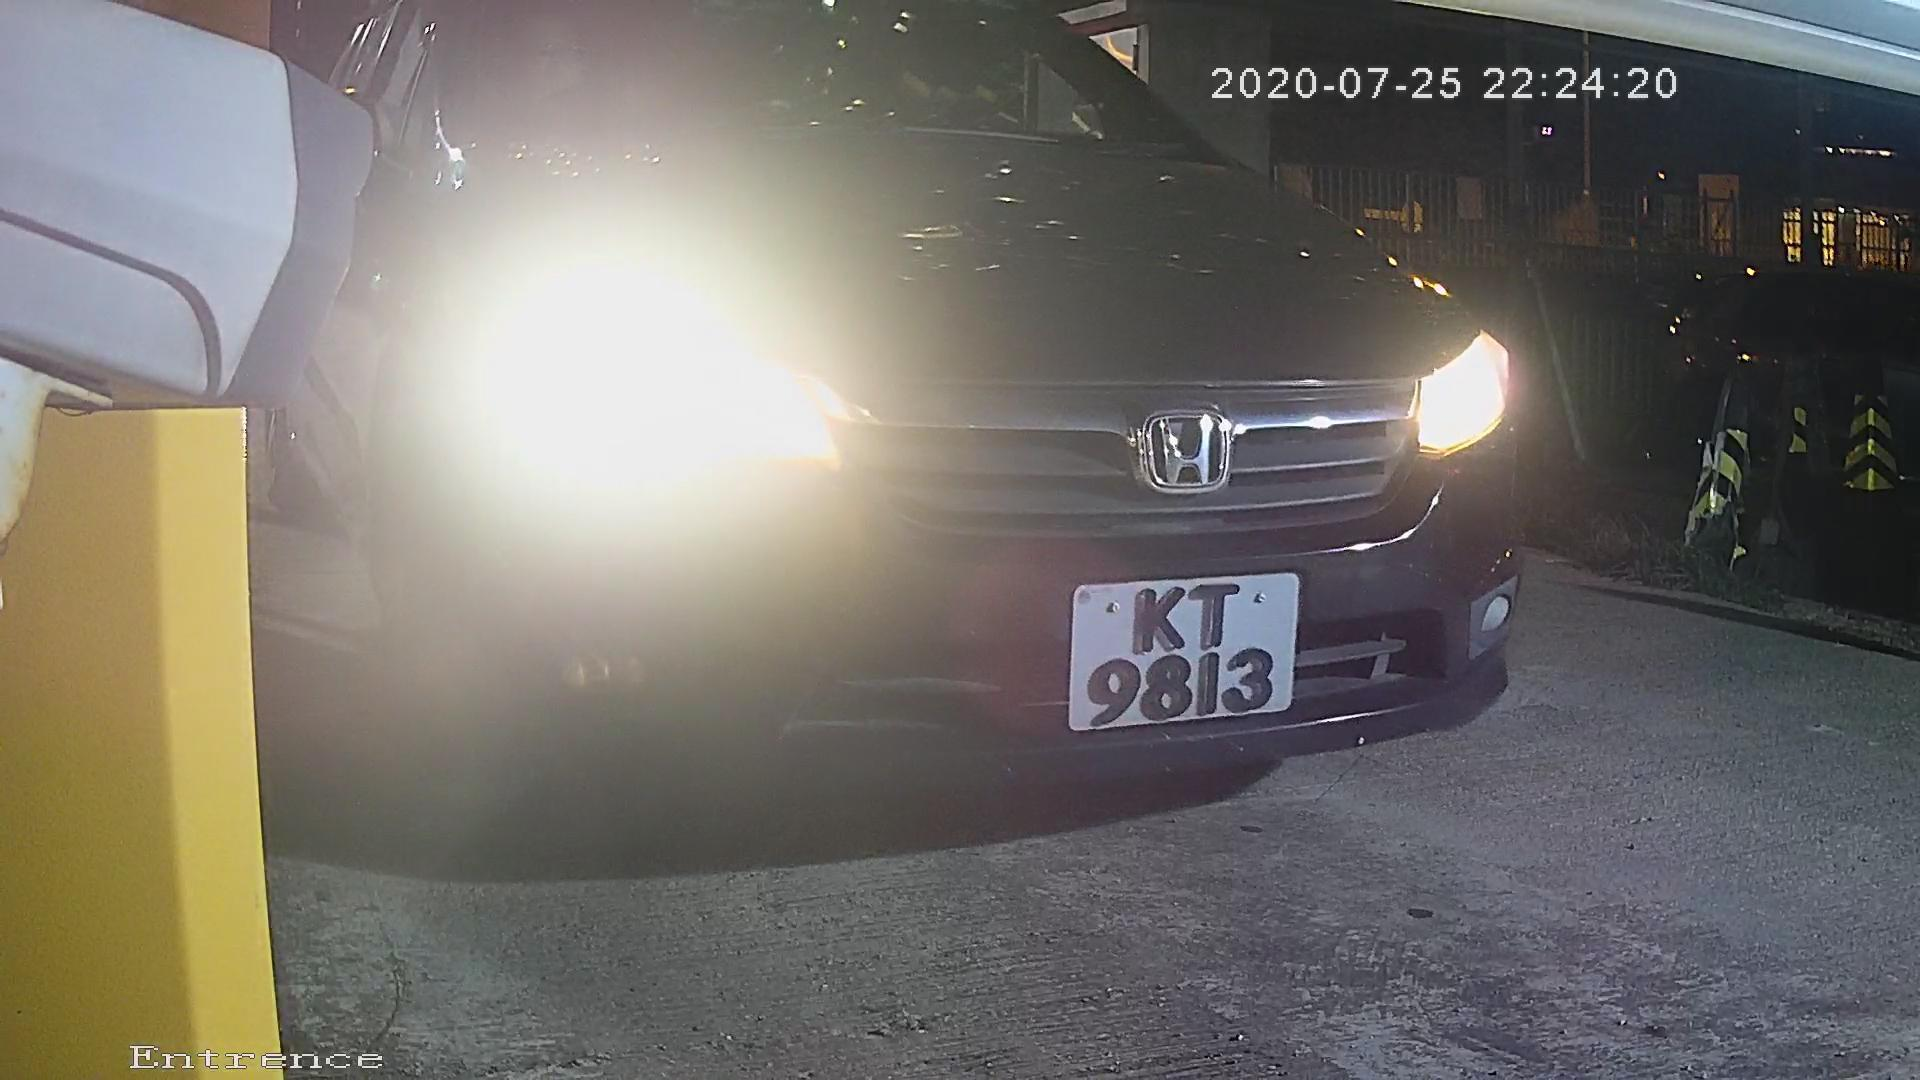privatecar: (369, 20, 1629, 835)
